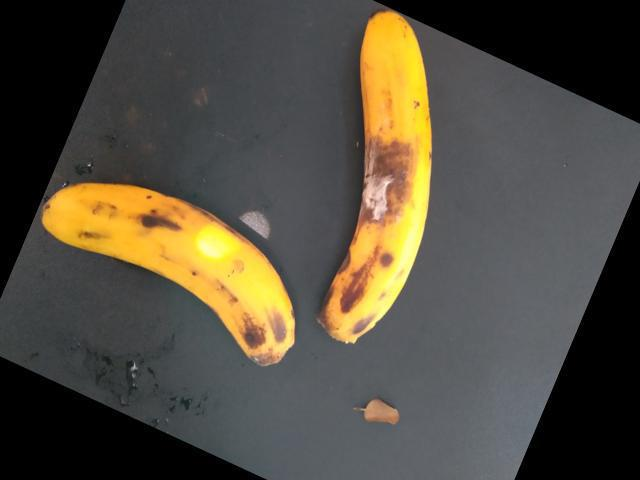overripe: (18, 148, 298, 367), (296, 0, 463, 343)
